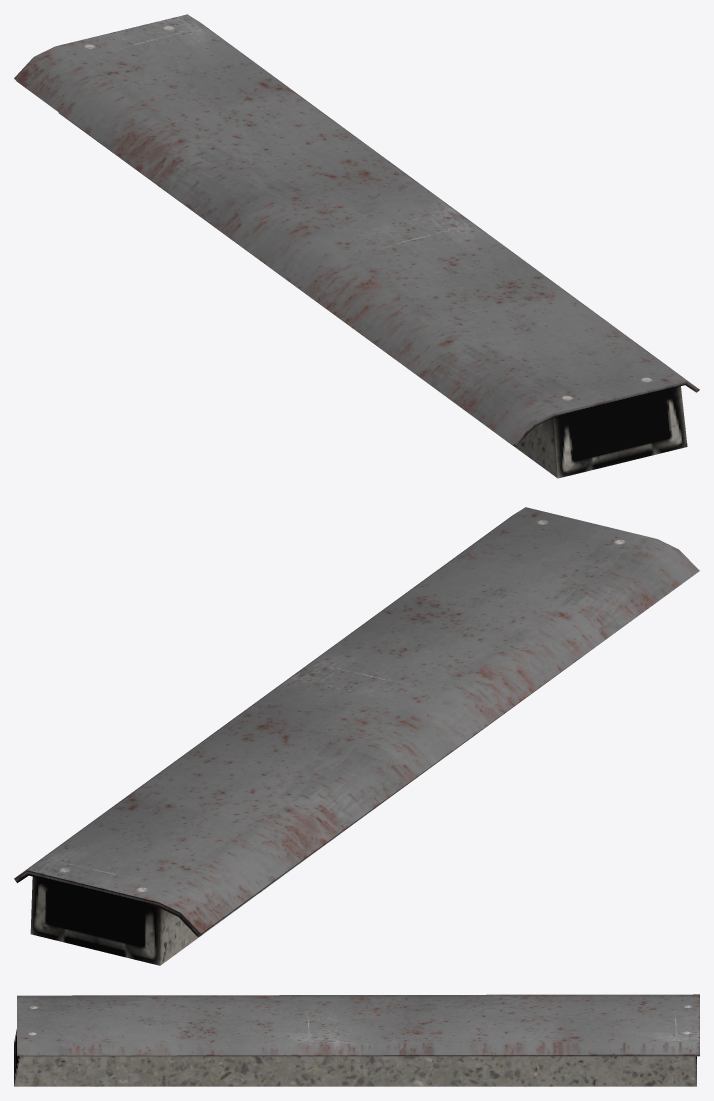
File: SM_RoofBordersTopSegment01.FBX
The picture shows the model from 3 angles, top to bottom: view 1: azimuth 30°, elevation 25°; view 2: azimuth 150°, elevation 25°; view 3: azimuth 270°, elevation 25°; orthographic projection. The views are drawn at different scales.
Visible parts, largest first — view 1: SM_RoofBordersTopSegment01_LOD0; view 2: SM_RoofBordersTopSegment01_LOD0; view 3: SM_RoofBordersTopSegment01_LOD0.
Part boxes in pixels (bbox=[...]): SM_RoofBordersTopSegment01_LOD0: bbox=[14, 14, 699, 478]; SM_RoofBordersTopSegment01_LOD0: bbox=[14, 507, 699, 965]; SM_RoofBordersTopSegment01_LOD0: bbox=[14, 994, 699, 1086].
Bounding box in the file's own units: 65.13 × 301 × 21.69.
